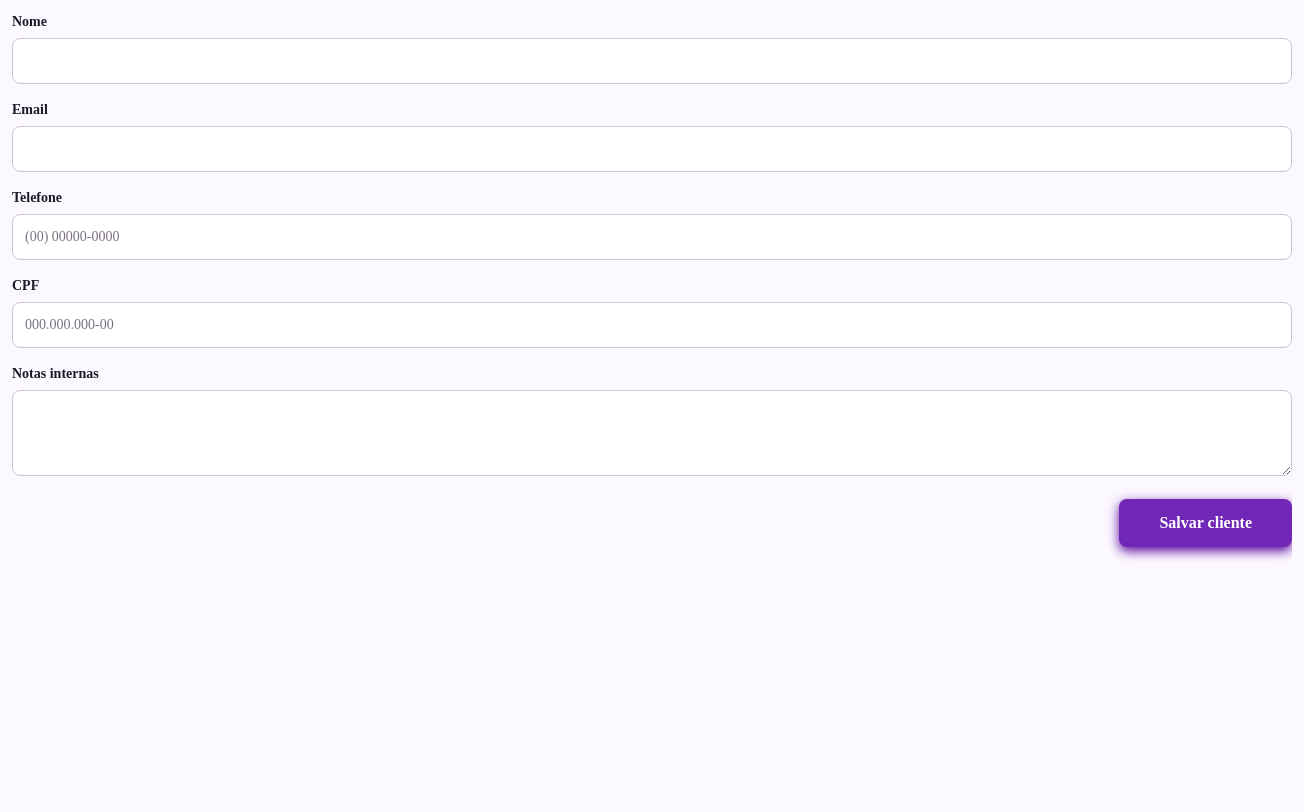
Test: CustomerForm › keeps every field after a validation error (VES-77)
The width and height of the screenshot is (1304, 812).
Type "Ana Silva" into the field labelled "Nome" at {"x": 652, "y": 61}, box left=12, top=38, right=1292, bottom=84
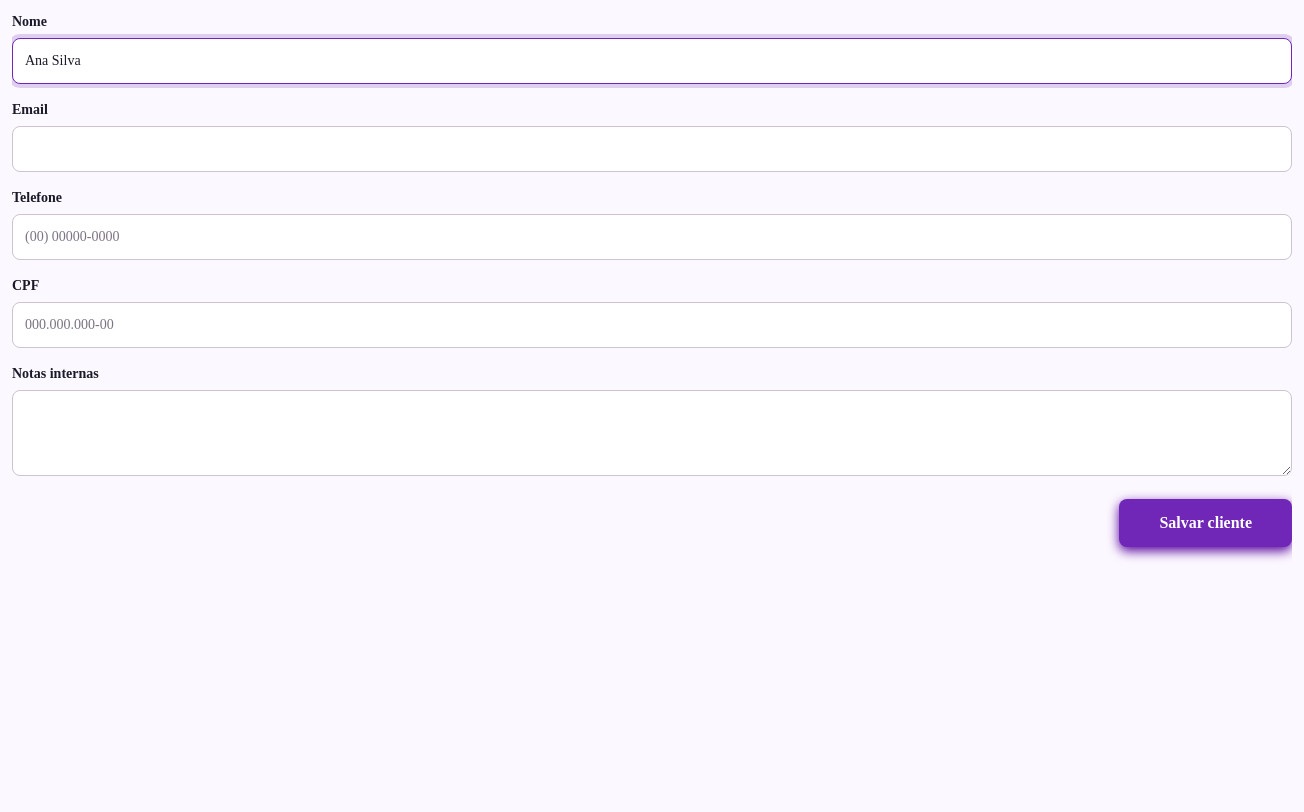
Type "ana@x.com" into the field labelled "Email" at {"x": 652, "y": 149}, box left=12, top=126, right=1292, bottom=172
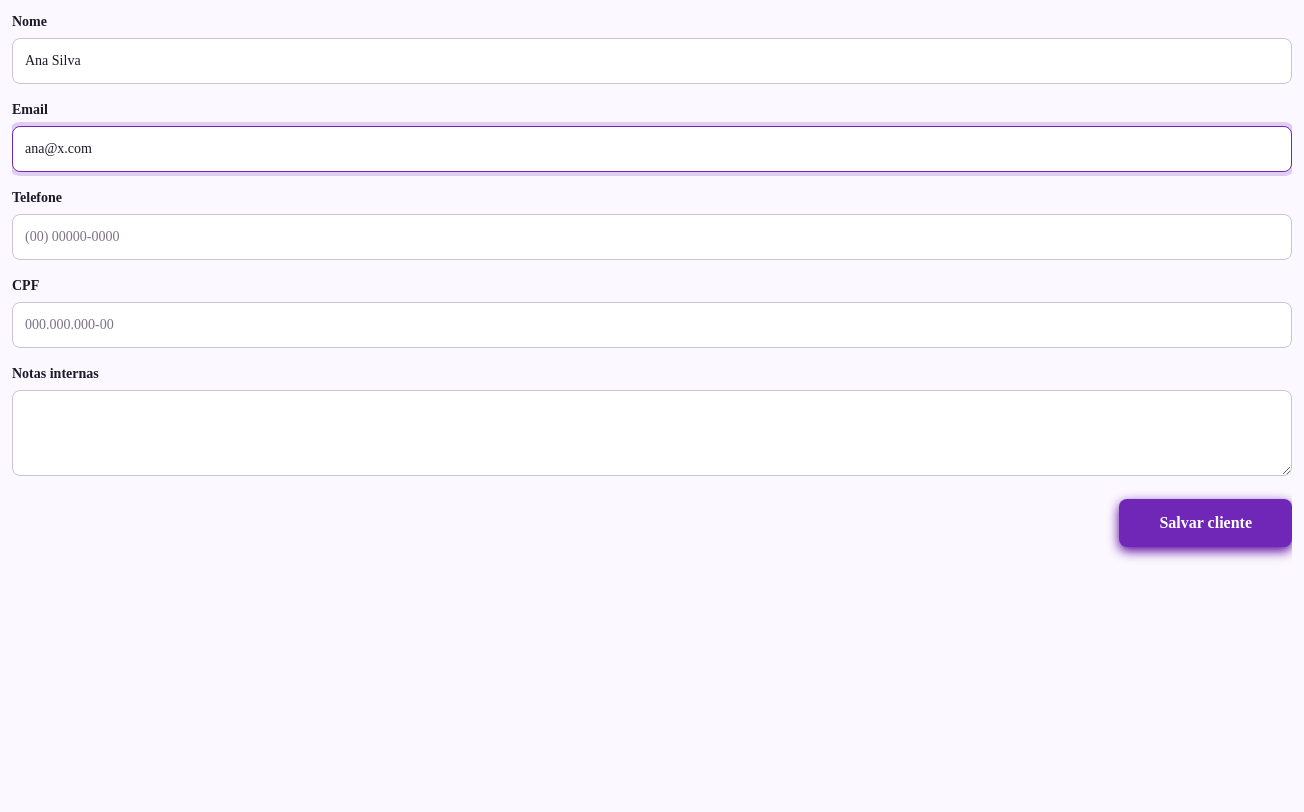
Type "123" into the field labelled "CPF" at {"x": 652, "y": 325}, box left=12, top=302, right=1292, bottom=348
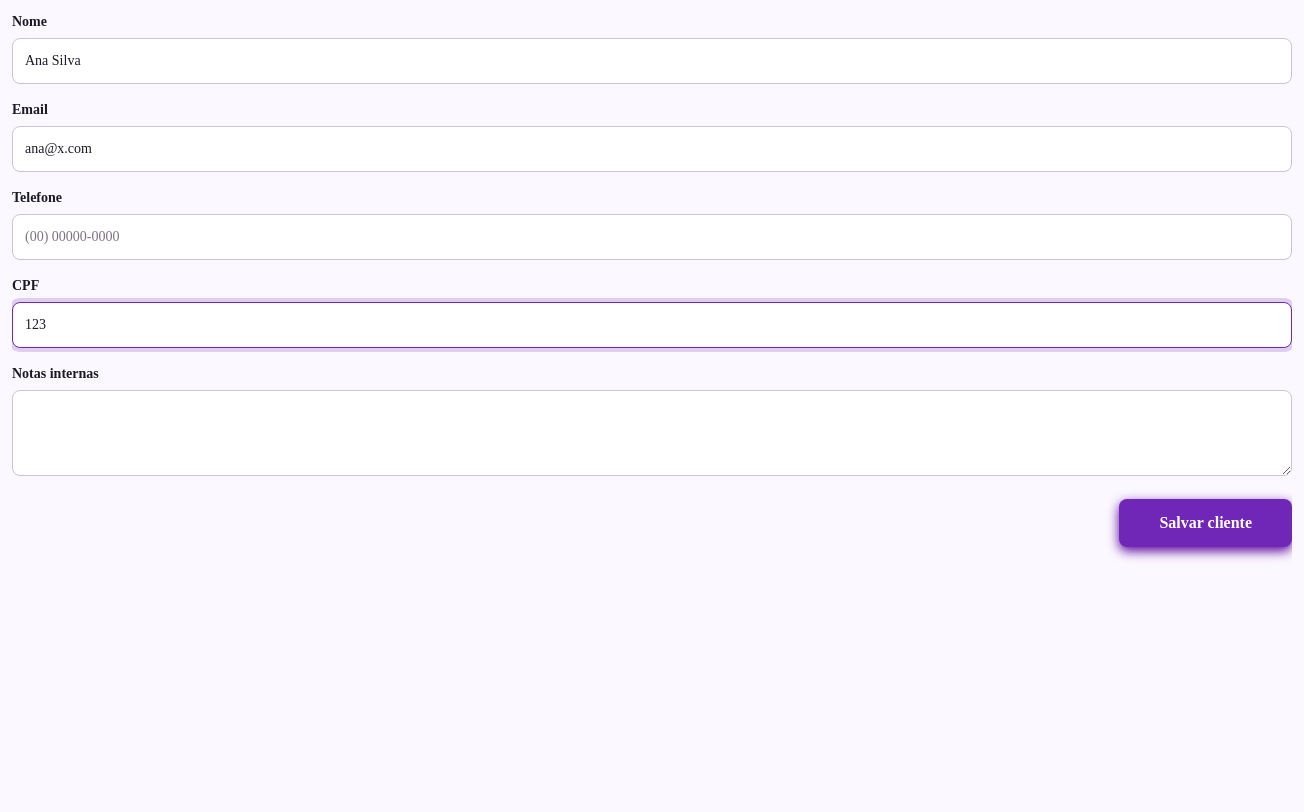
Click the button "Salvar cliente" at {"x": 1206, "y": 523}, box left=1119, top=499, right=1292, bottom=547
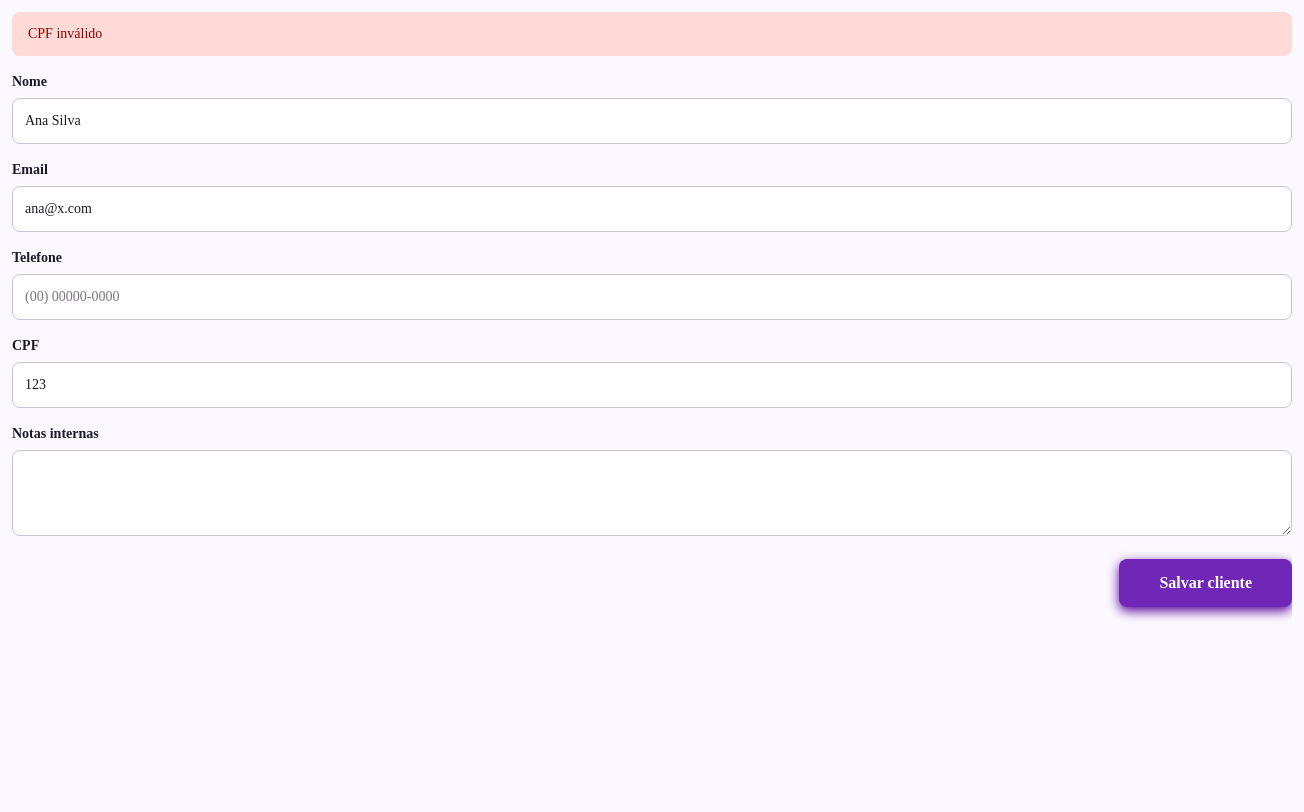
Expected: the message reads "CPF inválido", left=28, top=26, right=102, bottom=41
